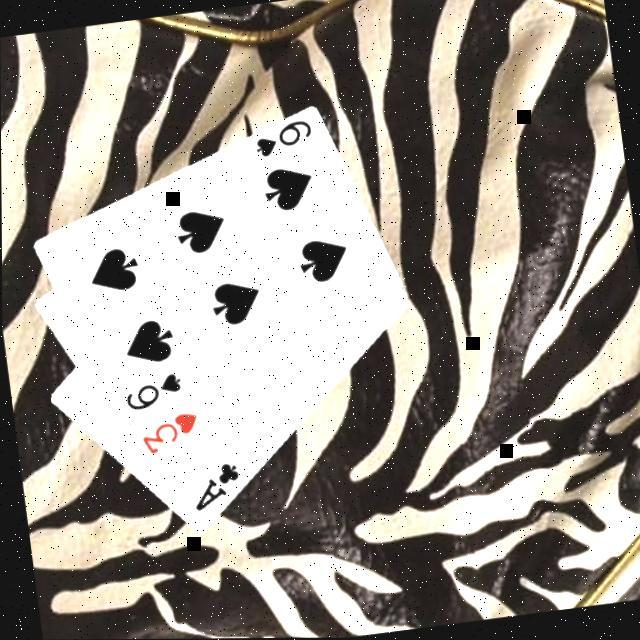3H: (134, 407, 203, 458)
6S: (250, 116, 318, 162), (120, 368, 186, 414)
AC: (186, 458, 246, 514)
